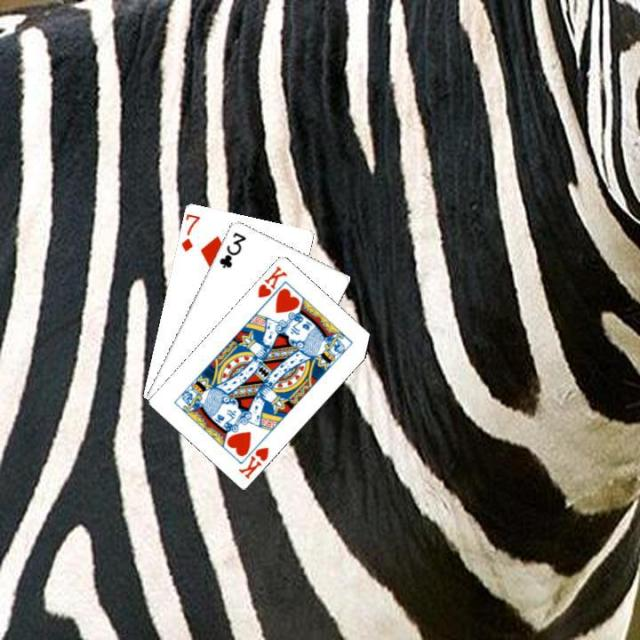3C: (215, 228, 248, 270)
7D: (177, 210, 202, 253)
KH: (253, 262, 289, 300), (235, 443, 271, 480)
